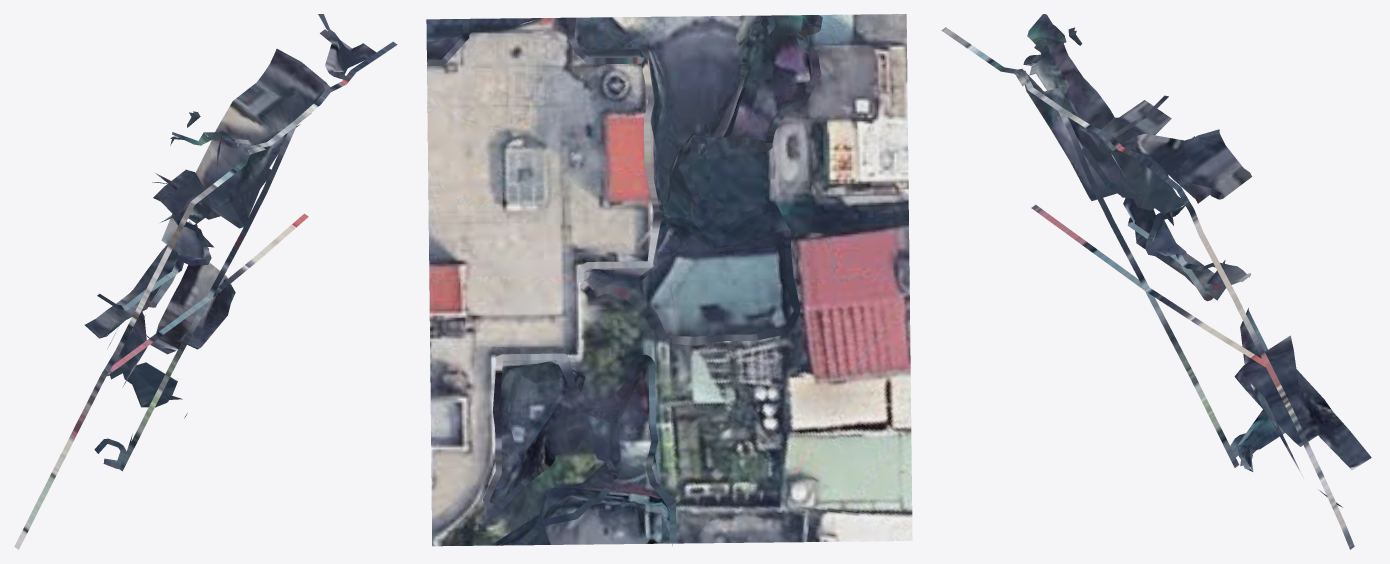
3 renders of one model, left to right at view 1: azimuth 30°, elevation 25°; view 2: azimuth 150°, elevation 25°; view 3: azimuth 270°, elevation 25°, orthographic. The views are drawn at different scales.
Bounding box in the file's own units: 38.18 × 37.36 × 33.7.
1 material, 1 textured.
